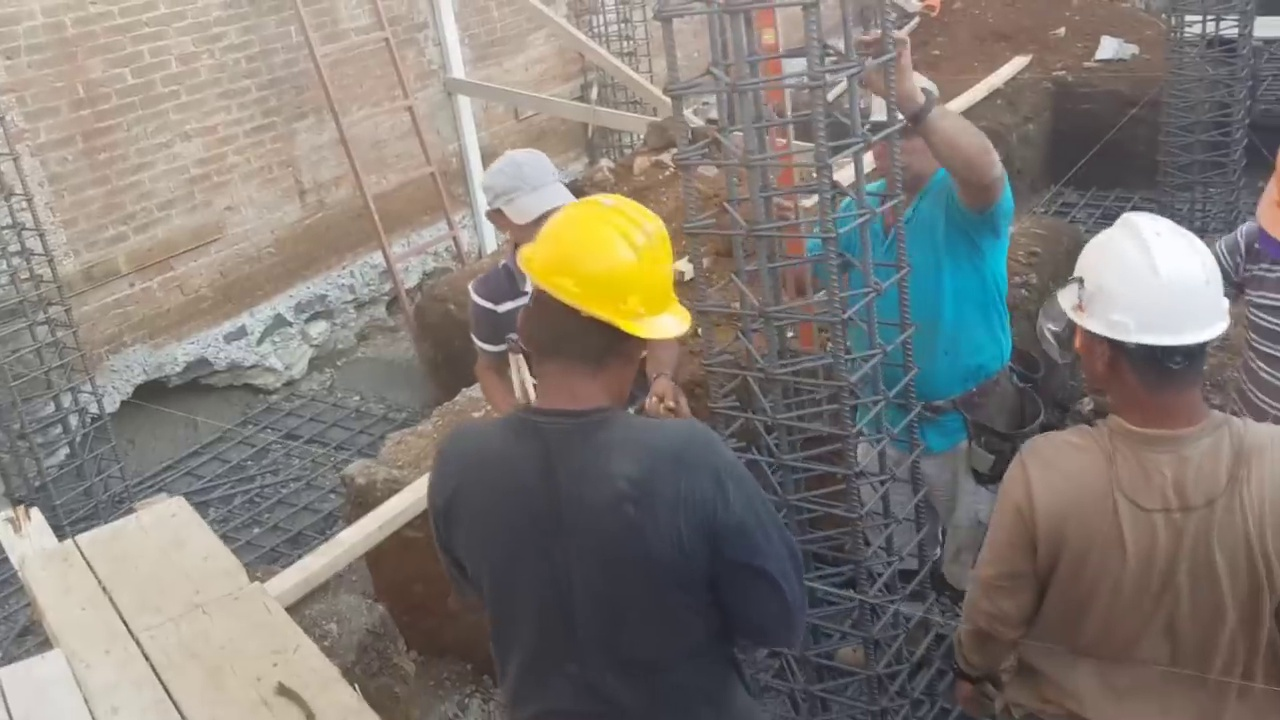helmet: (513, 192, 691, 342), (1060, 219, 1233, 361)
helmet-off: (853, 62, 952, 216), (479, 146, 579, 258)
helmet-on: (483, 191, 693, 416), (1065, 219, 1238, 438)
person: (407, 160, 797, 704), (962, 211, 1280, 719), (808, 85, 1017, 639)
